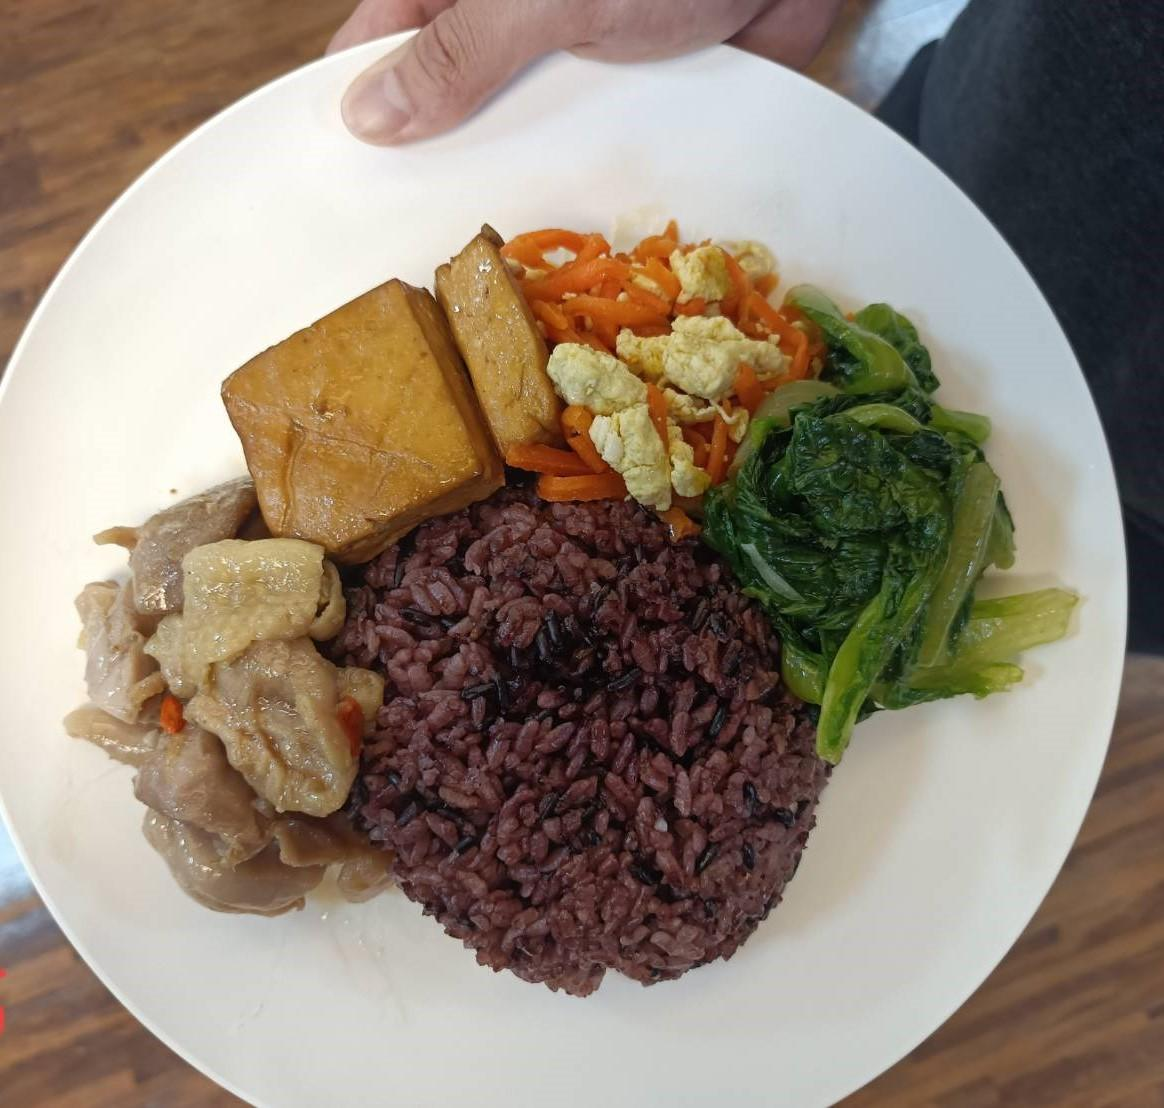big fried chicken leg: (14, 38, 1134, 1108)
braised fish: (340, 501, 838, 964)
braised fish fillet: (756, 331, 1019, 737), (206, 283, 541, 528), (530, 223, 800, 510)
braised pork: (78, 484, 386, 950)
